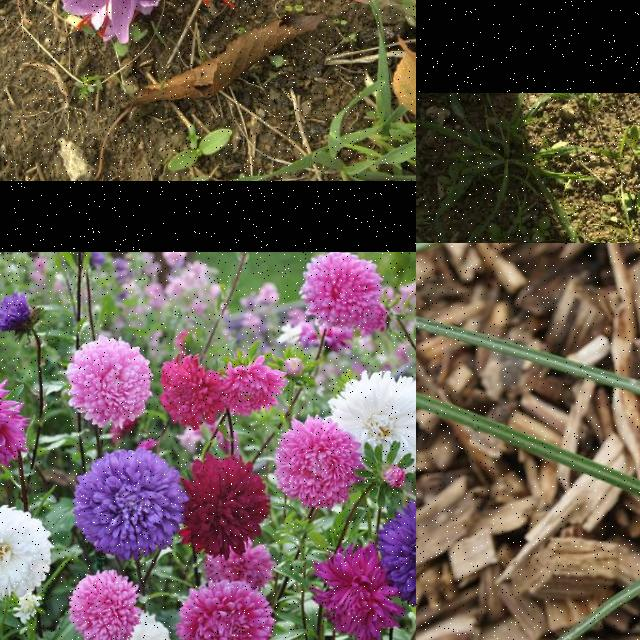overlap: (61, 0, 235, 44)
